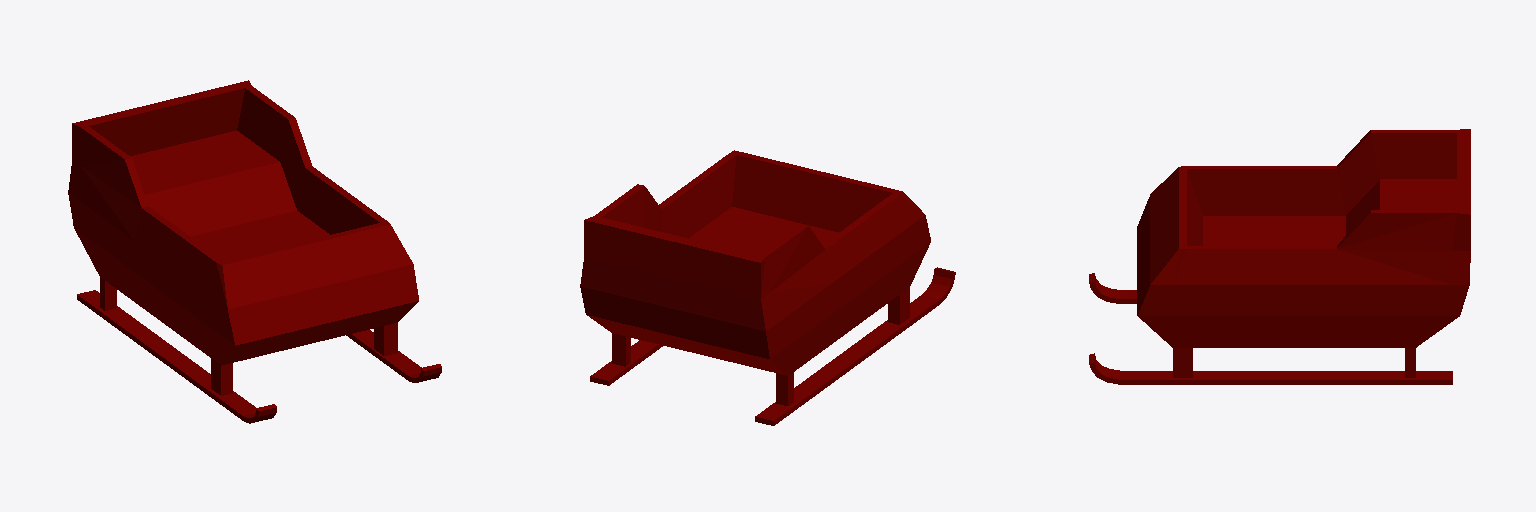
Rendered from ChristmasSled.obj.
The picture shows the model from 3 angles: view 1: azimuth 30°, elevation 25°; view 2: azimuth 150°, elevation 25°; view 3: azimuth 270°, elevation 25°; orthographic projection.
Parts seen in each view (by area): view 1: Cube_Material.001; view 2: Cube_Material.001; view 3: Cube_Material.001.
Part boxes in pixels (left/top/right/bottom): Cube_Material.001: left=68, top=80, right=441, bottom=423; Cube_Material.001: left=580, top=150, right=955, bottom=425; Cube_Material.001: left=1089, top=129, right=1470, bottom=384.
Bounding box in the file's own units: 3.07 × 2.66 × 5.46.